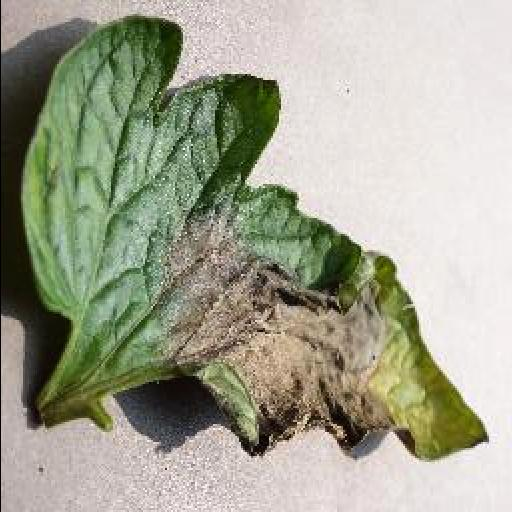disease_tomato: (20, 10, 490, 462)
